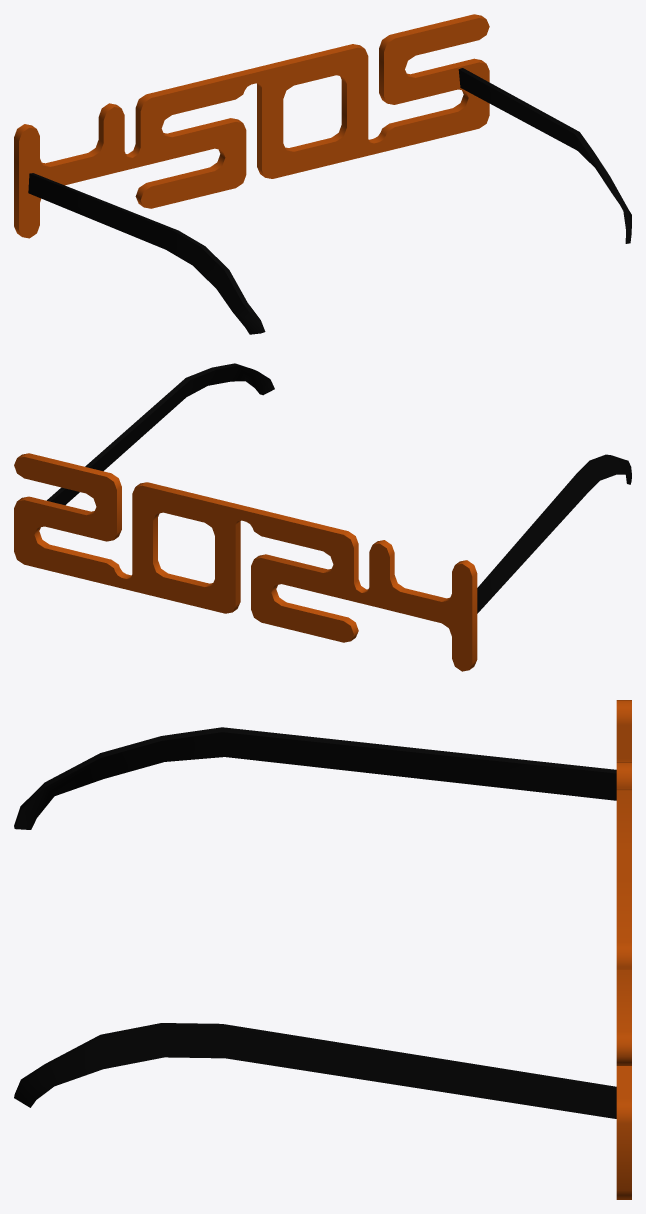
The model's file is new_year_2024.obj.
3 views of the same model, one above another, from view 1: azimuth 30°, elevation 25°; view 2: azimuth 150°, elevation 25°; view 3: azimuth 270°, elevation 25° (orthographic). The views are drawn at different scales.
Parts seen in each view (by area): view 1: 1, 0; view 2: 1, 0; view 3: 0, 1.
Part boxes in pixels (x1,y1,x2,y2): 1: (14, 14, 489, 238); 0: (28, 68, 631, 334); 1: (14, 453, 477, 671); 0: (47, 363, 631, 613); 0: (14, 727, 616, 1118); 1: (616, 700, 631, 1199).
Bounding box in the file's own units: 0.4994 × 0.1124 × 0.3762.
